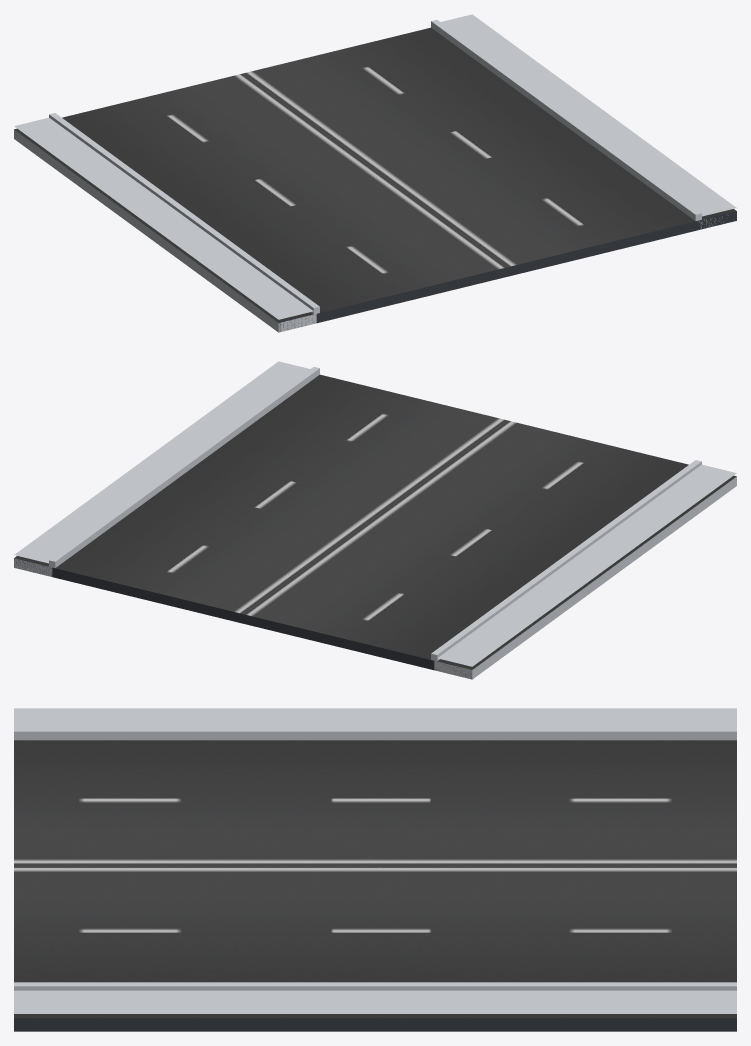
The model's file is road_001_pacote.glb.
3 views of the same model, one above another, from view 1: azimuth 30°, elevation 25°; view 2: azimuth 150°, elevation 25°; view 3: azimuth 270°, elevation 25° (orthographic). The views are drawn at different scales.
Parts seen in each view (by area): view 1: road_001_pacote; view 2: road_001_pacote; view 3: road_001_pacote.
Boxes of the visible parts, <box> form: road_001_pacote: <box>14,14,736,332</box>; road_001_pacote: <box>14,361,736,679</box>; road_001_pacote: <box>14,708,736,1031</box>.
Size of the model in its own units: 15 by 0.5 by 15.
2 materials, 2 textured.
